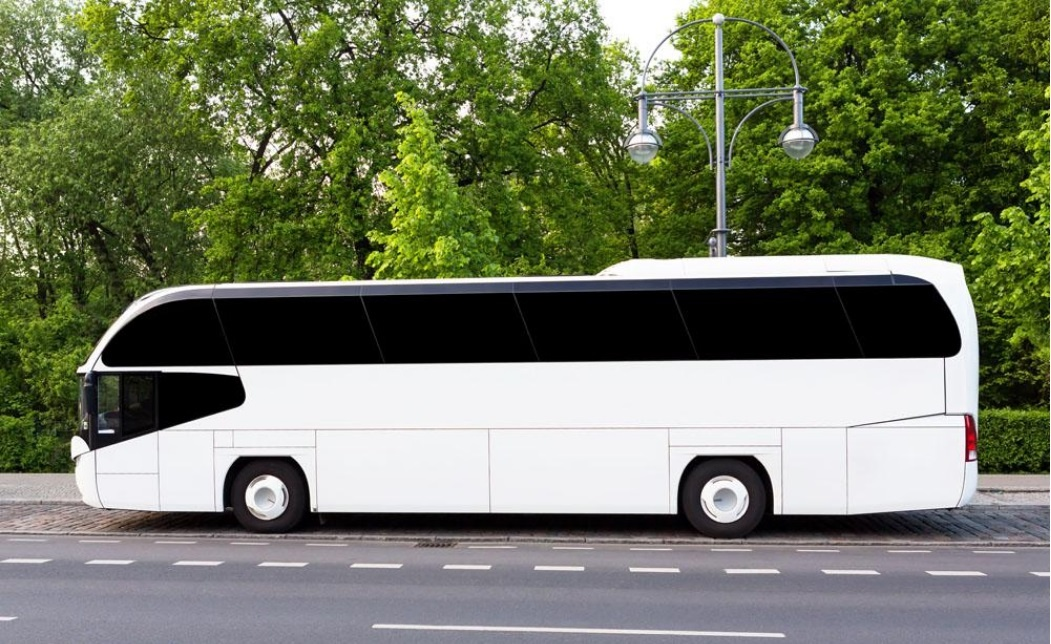bus: (50, 228, 997, 561)
